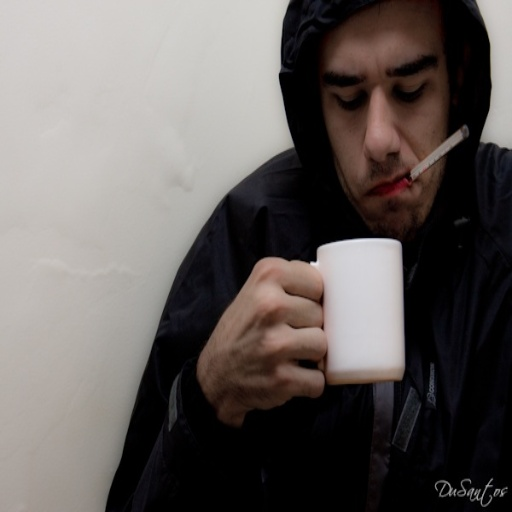hand: (220, 254, 328, 391)
